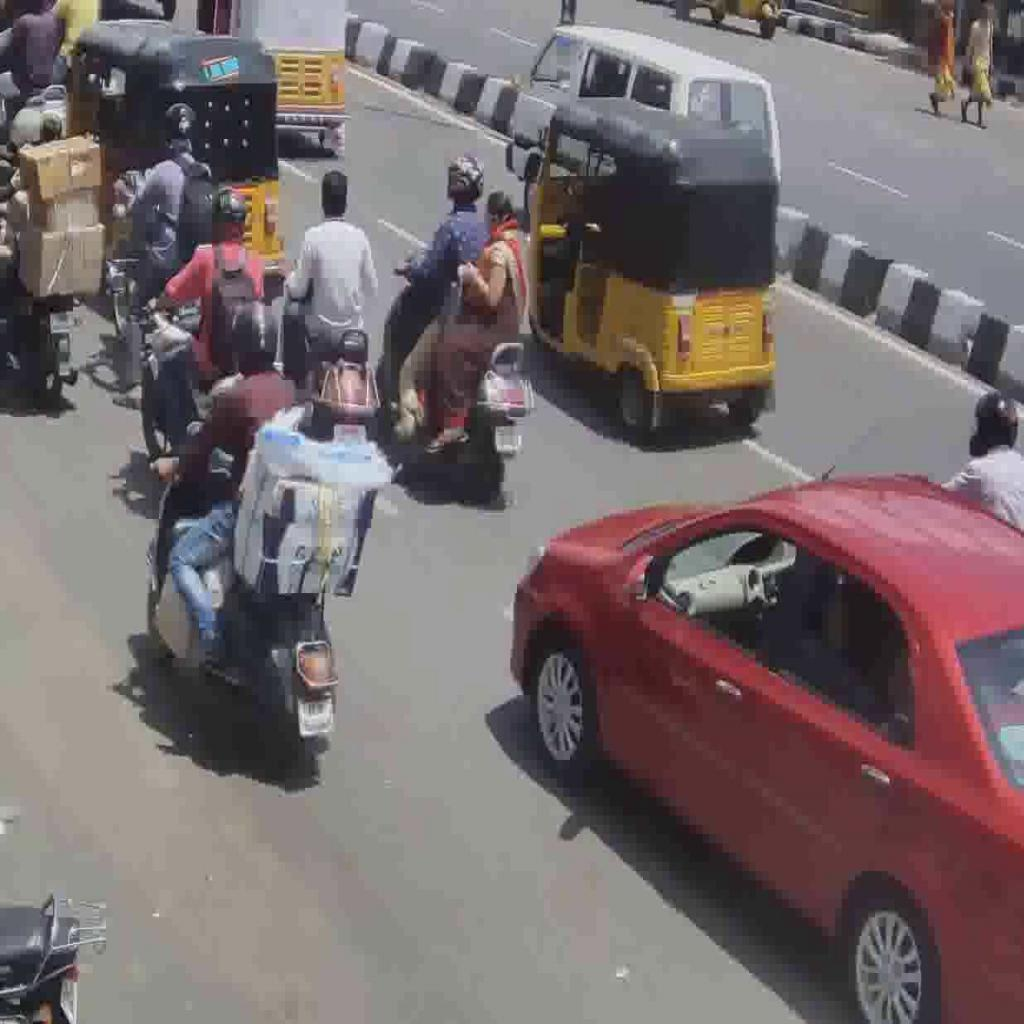helmet: (146, 418, 337, 742), (381, 258, 535, 477)
